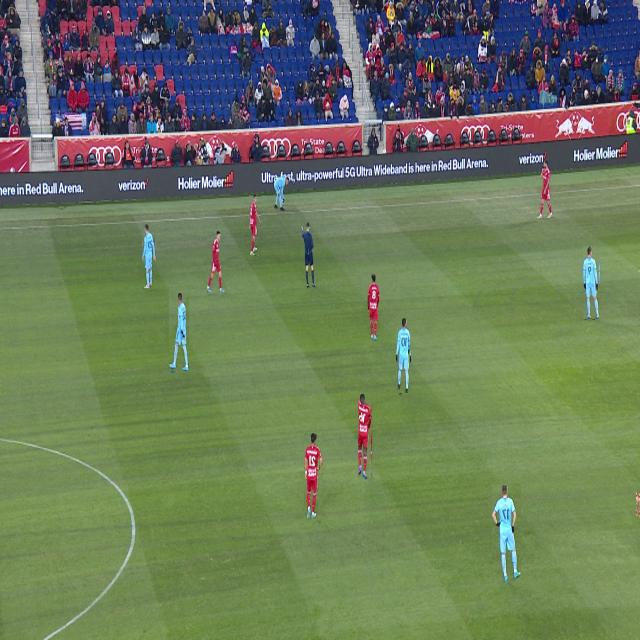player: (492, 485, 521, 582), (169, 293, 189, 371), (305, 434, 322, 520), (207, 232, 225, 293), (584, 247, 599, 319), (359, 395, 371, 477), (397, 319, 410, 393), (536, 160, 552, 219), (143, 225, 155, 289), (249, 194, 261, 255), (368, 274, 379, 339), (637, 492, 639, 517)
referee: (302, 222, 316, 287)
